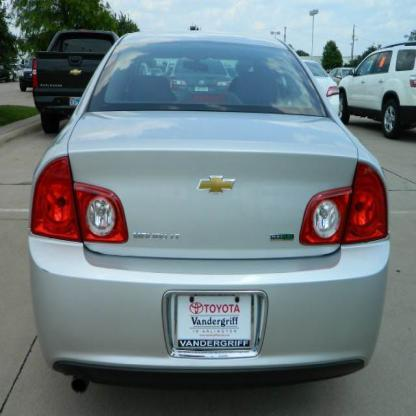Vehicle: (27, 34, 391, 395)
